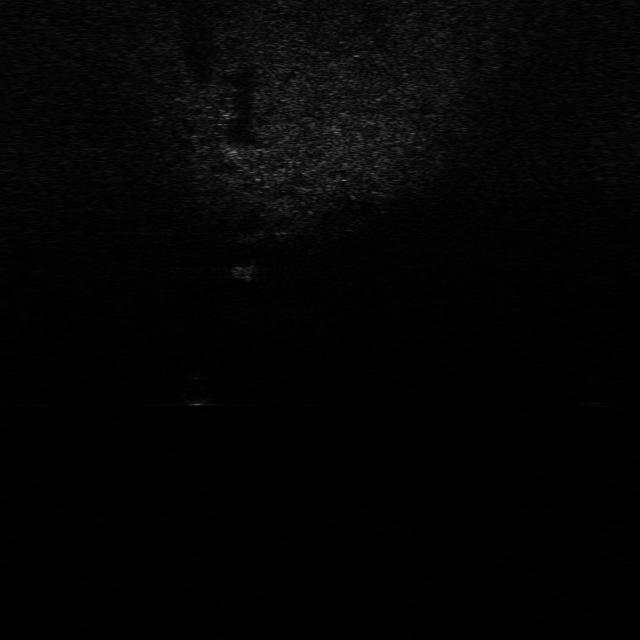ball: (180, 369, 216, 407)
cube: (228, 255, 266, 283)
